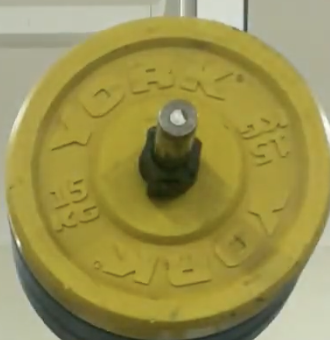barbell: (162, 102, 196, 136)
